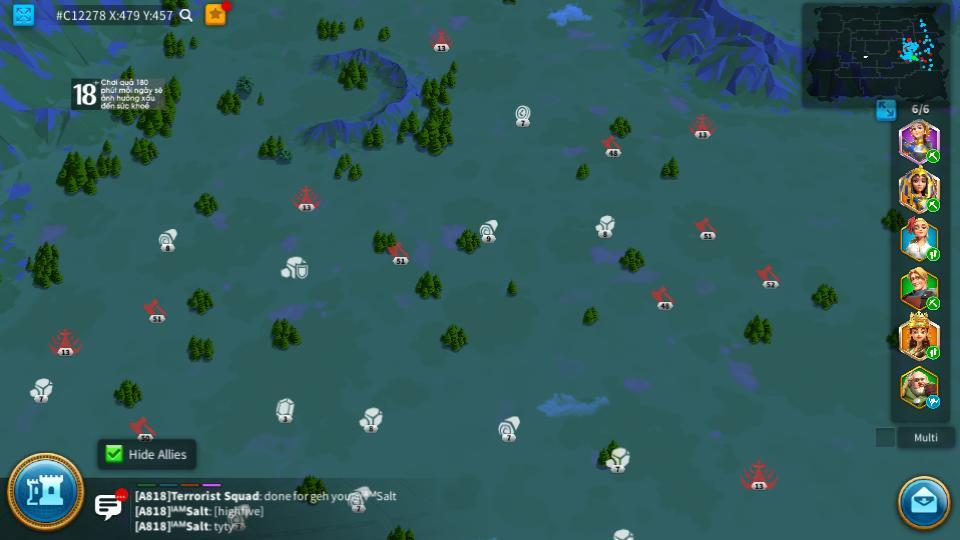gem-z-out: (274, 398, 296, 423), (611, 528, 634, 539)
march_idle: (925, 396, 942, 408)
march_marching: (925, 197, 941, 212), (925, 150, 942, 162), (925, 347, 941, 359), (925, 297, 942, 308)
